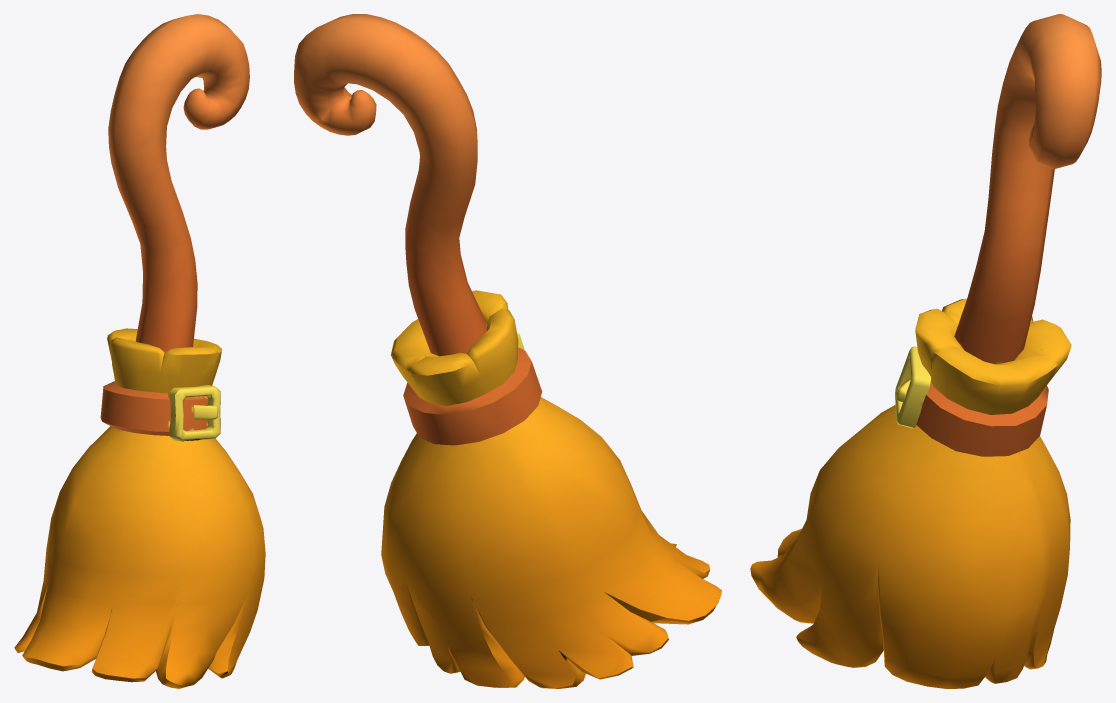
Rendered from kit-broom.glb.
The picture shows the model from 3 angles, left to right: view 1: azimuth 30°, elevation 25°; view 2: azimuth 150°, elevation 25°; view 3: azimuth 270°, elevation 25°; orthographic projection. The views are drawn at different scales.
Visible parts, largest first — view 1: WBA_Witch_Broom_Set_01_WBA_MAT_Halloween_Atlas_0.001; view 2: WBA_Witch_Broom_Set_01_WBA_MAT_Halloween_Atlas_0.001; view 3: WBA_Witch_Broom_Set_01_WBA_MAT_Halloween_Atlas_0.001.
Boxes of the visible parts, bbox=[...] form: WBA_Witch_Broom_Set_01_WBA_MAT_Halloween_Atlas_0.001: bbox=[14, 14, 265, 688]; WBA_Witch_Broom_Set_01_WBA_MAT_Halloween_Atlas_0.001: bbox=[294, 14, 721, 688]; WBA_Witch_Broom_Set_01_WBA_MAT_Halloween_Atlas_0.001: bbox=[750, 14, 1101, 688].
Size of the model in its own units: 0.3987 by 0.7446 by 0.3457.
Materials: 1 (1 with a texture image).
